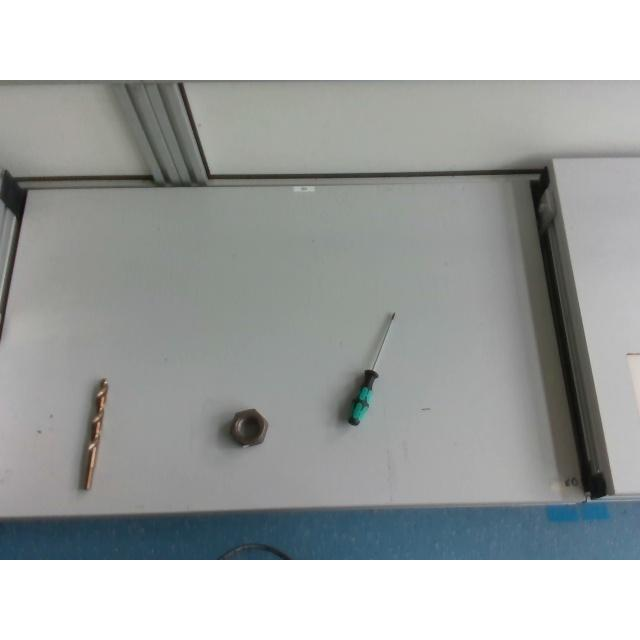Drill: (80, 378, 108, 489)
M30: (231, 408, 269, 448)
Screwdriver: (348, 312, 394, 424)
